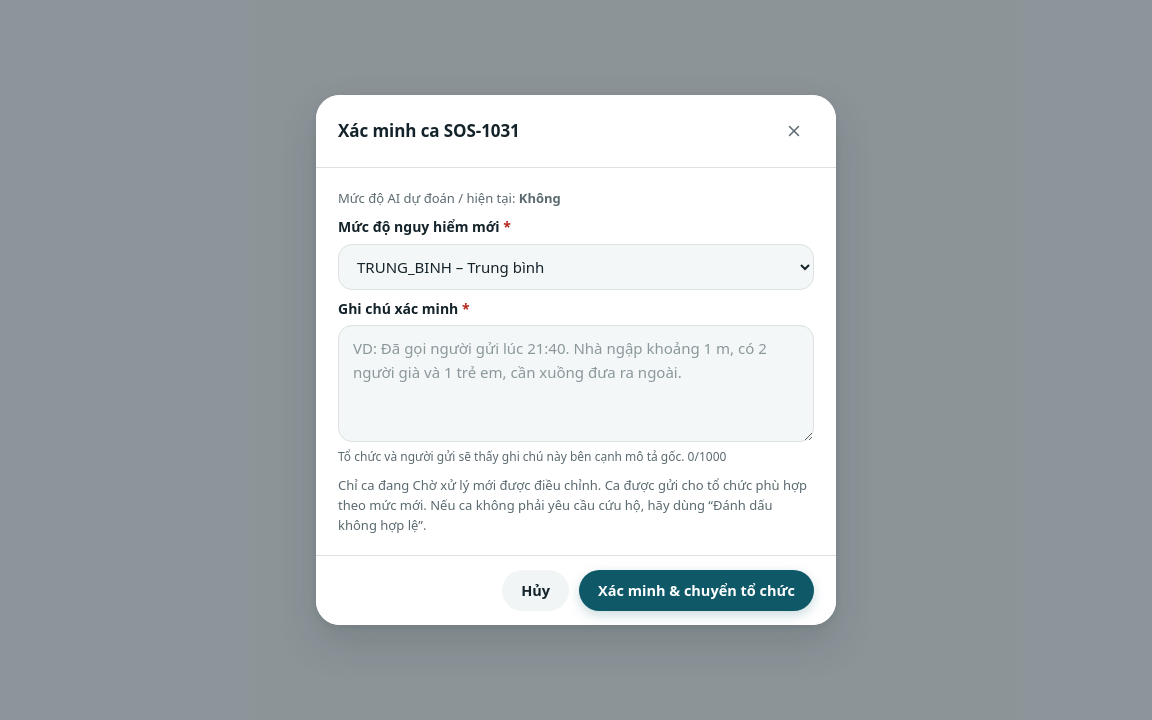
AdjustSeverityModal: ghi chú xác minh chỉ cho ca AI xếp “Không” › hiện lỗi backend trả về
The image size is (1152, 720).
Replace the text in the text box with "Đã gọi" at (576, 384), box x1=338 y1=325 x2=814 y2=442
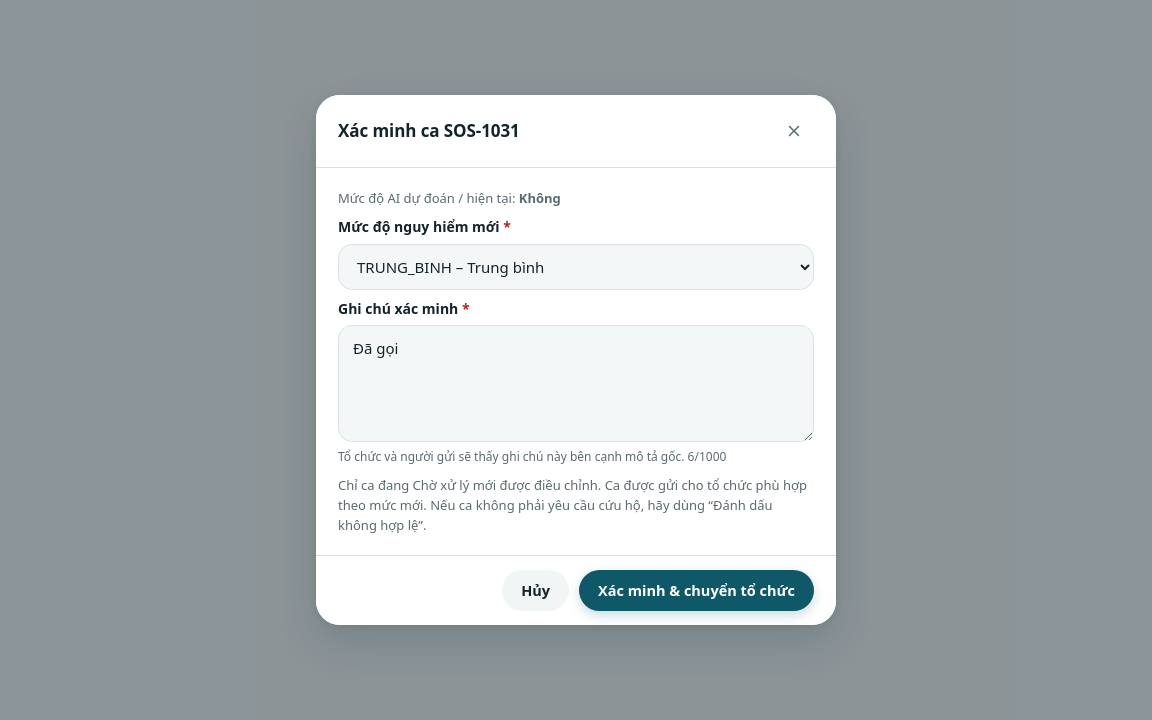
Click the button "Xác minh & chuyển tổ chức" at (697, 591), box x1=579 y1=570 x2=814 y2=611
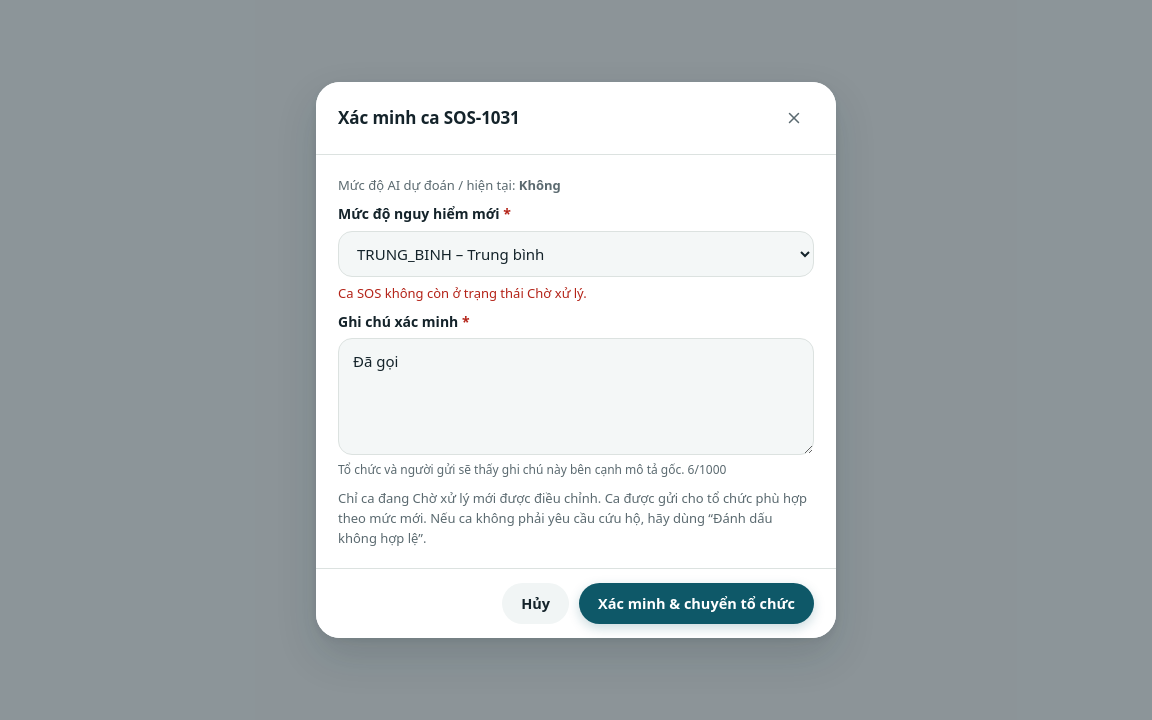
Expected: the text "Ca SOS không còn ở trạng thái Chờ xử lý." is shown, x1=338 y1=284 x2=587 y2=302
